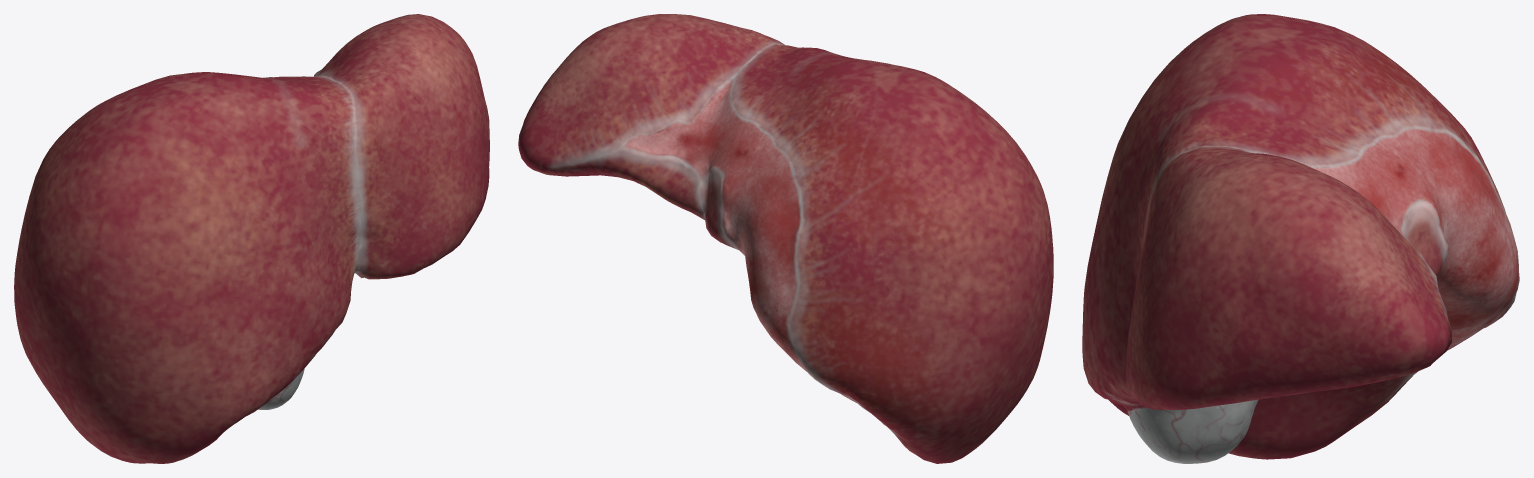
Rendered from NASH_Liver.glb.
The picture shows the model from 3 angles, left to right: view 1: azimuth 30°, elevation 25°; view 2: azimuth 150°, elevation 25°; view 3: azimuth 270°, elevation 25°; orthographic projection. The views are drawn at different scales.
Parts seen in each view (by area): view 1: NASH_Liver; view 2: NASH_Liver; view 3: NASH_Liver.
Part boxes in pixels (left/top/right/bottom): NASH_Liver: left=14, top=14, right=489, bottom=463; NASH_Liver: left=518, top=14, right=1053, bottom=463; NASH_Liver: left=1082, top=14, right=1519, bottom=463.
Bounding box in the file's own units: 19.6 × 14.74 × 12.54.
Materials: 1 (1 with a texture image).
